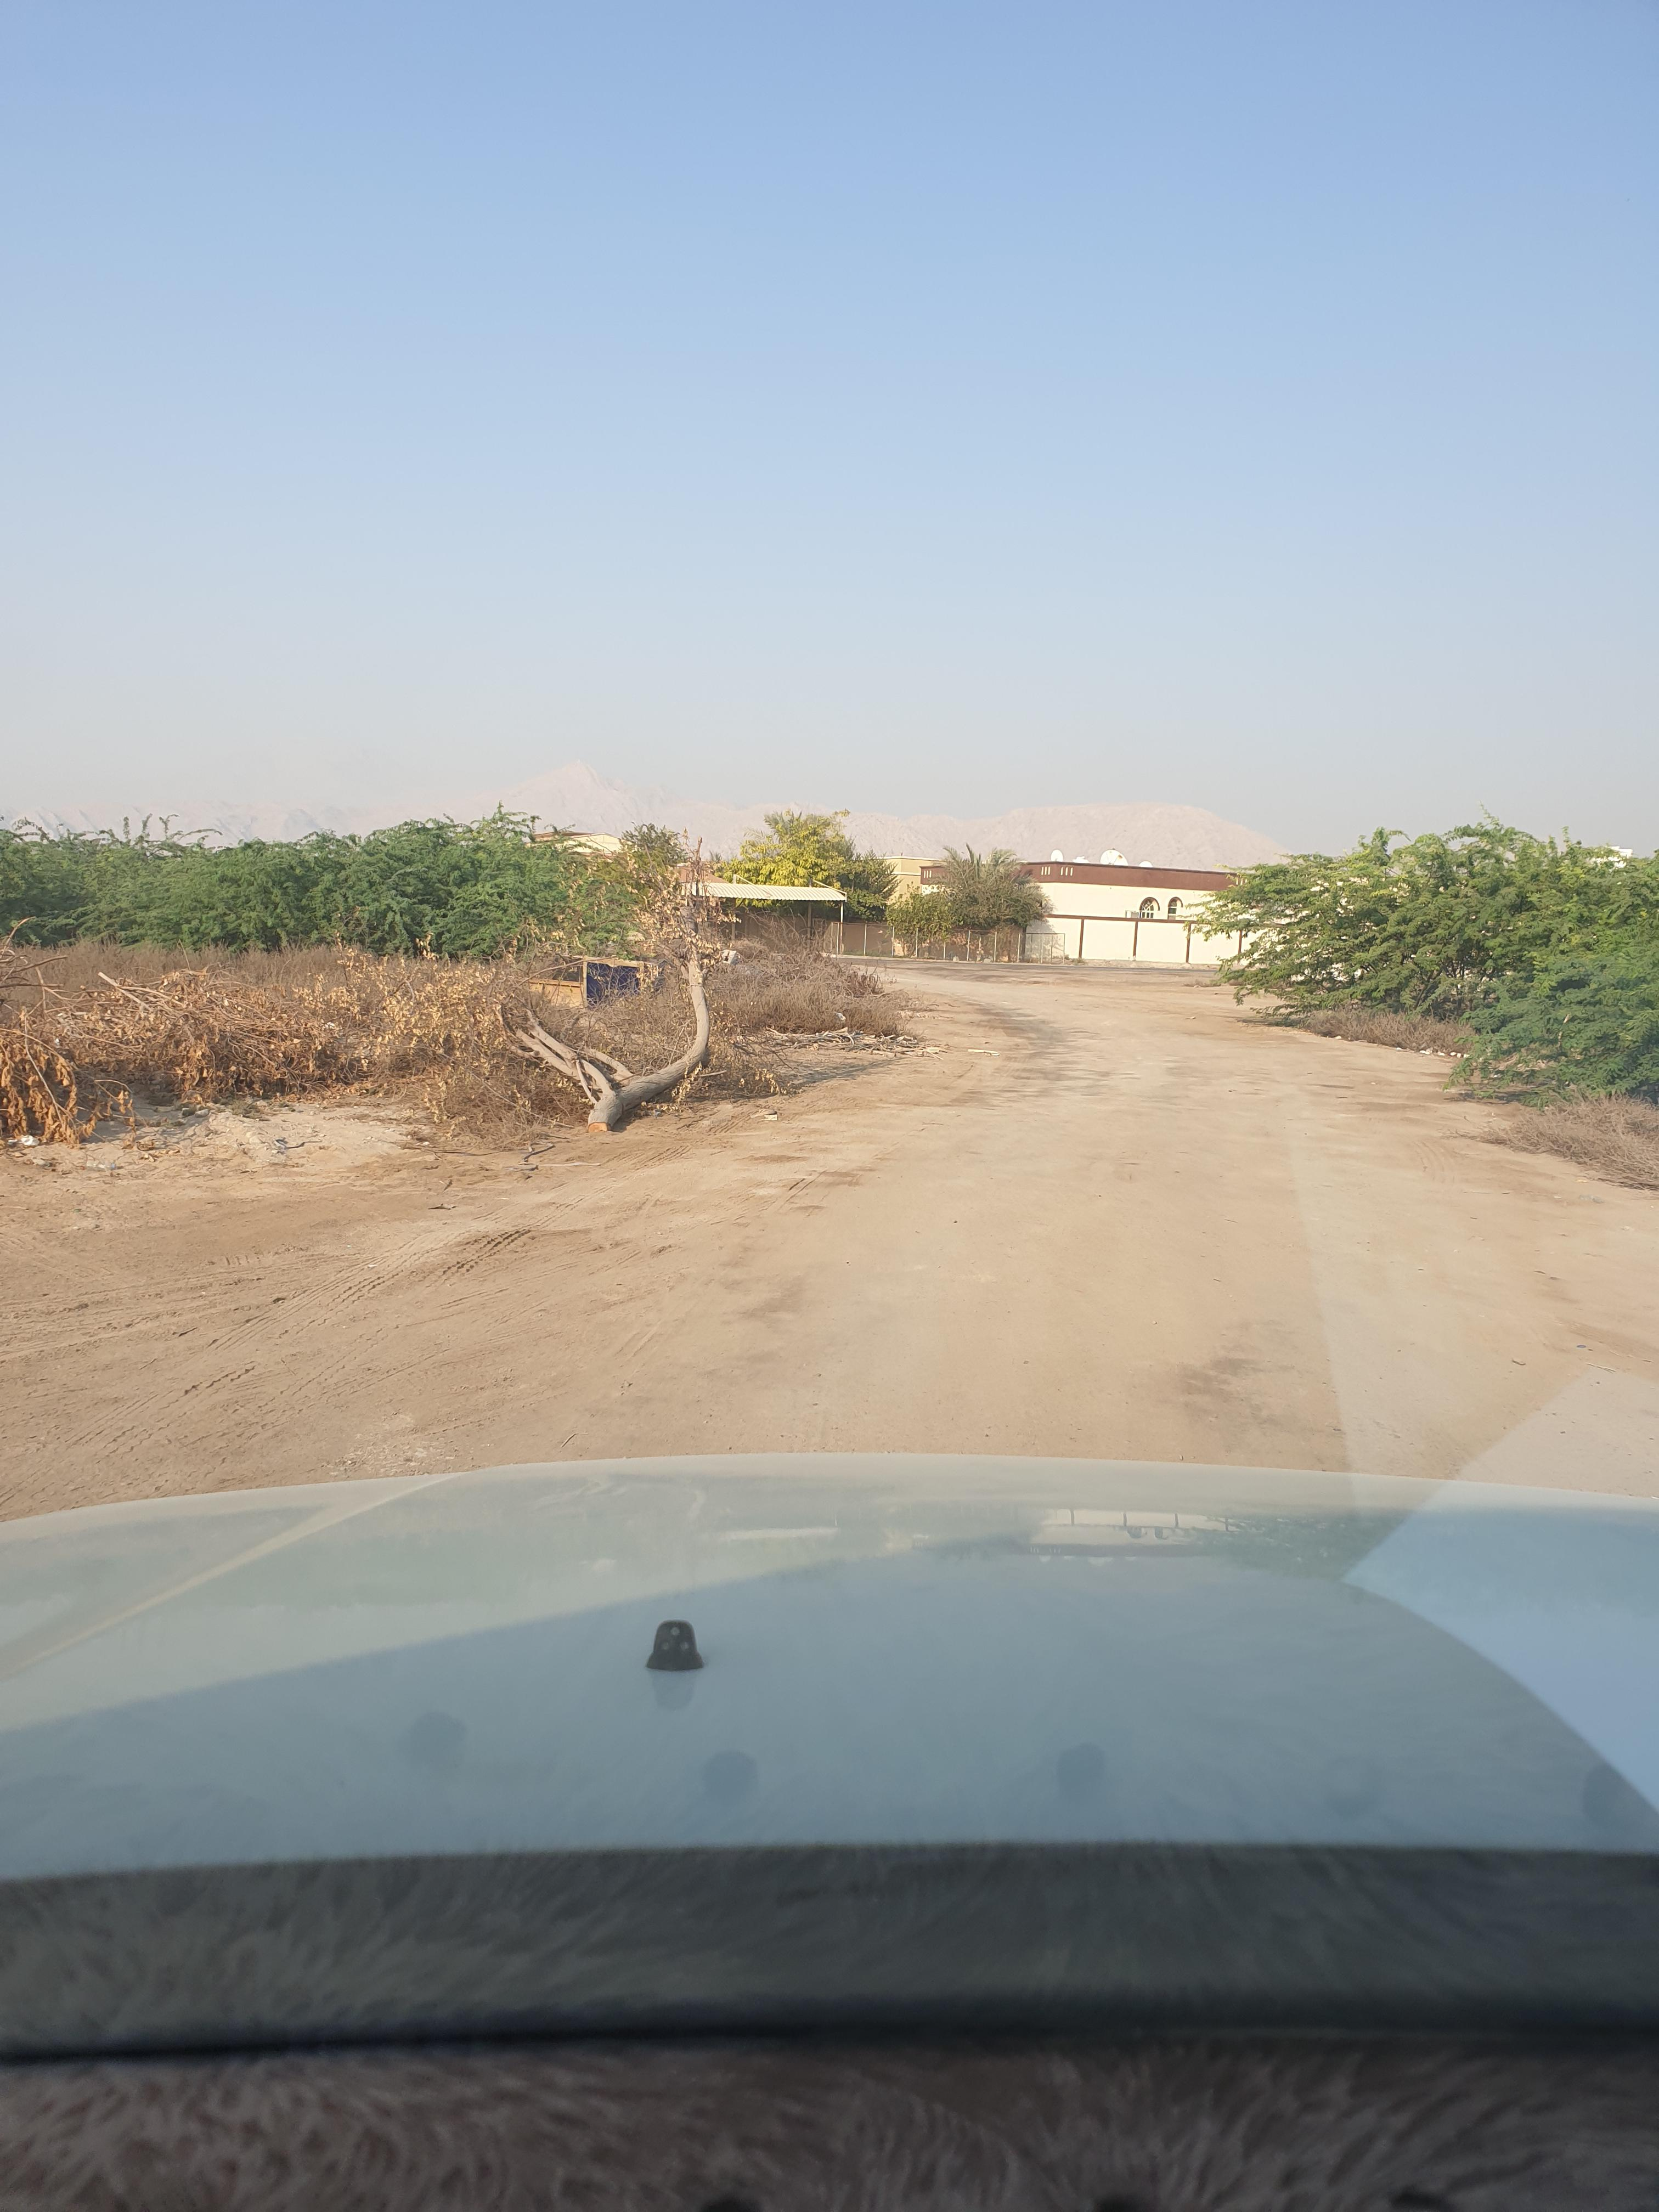fallen_trees: (476, 1038, 819, 1169), (274, 1045, 471, 1116), (755, 1010, 943, 1075)
